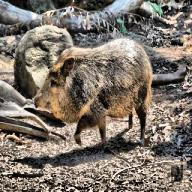boar: (32, 36, 154, 149)
